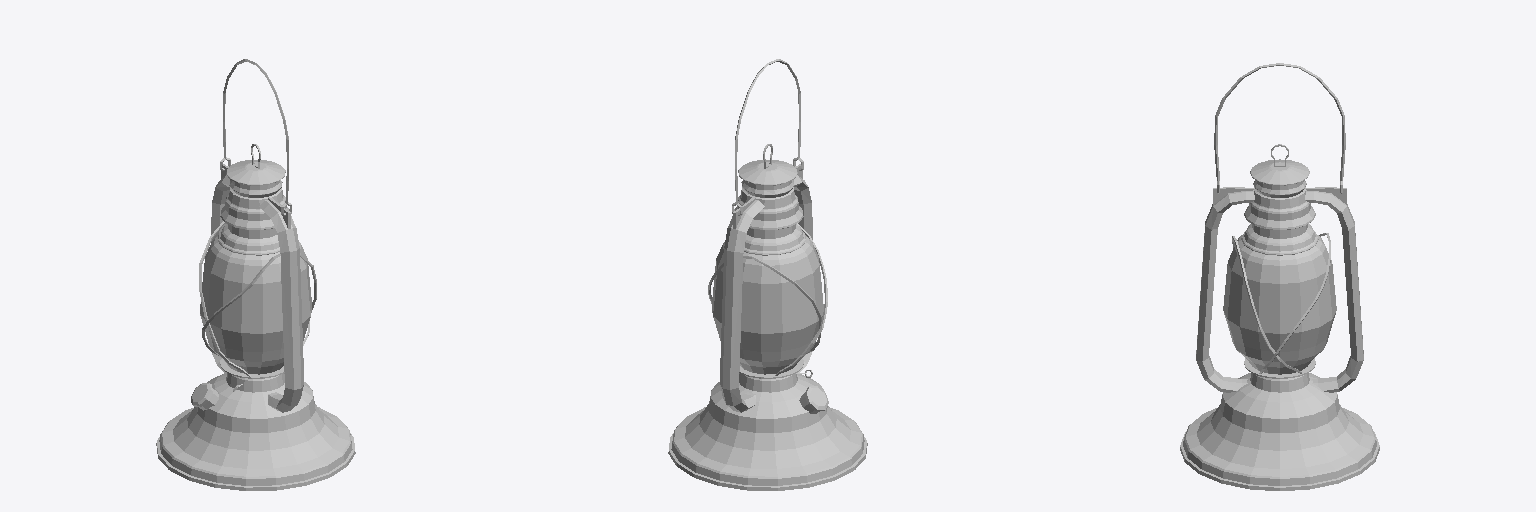
File: Lamp_01.obj
3 views of the same model, side by side, from view 1: azimuth 30°, elevation 25°; view 2: azimuth 150°, elevation 25°; view 3: azimuth 270°, elevation 25° (orthographic).
Visible parts, largest first — view 1: g Low_Poly_Lamp_Low_Poly_Lamp; view 2: g Low_Poly_Lamp_Low_Poly_Lamp; view 3: g Low_Poly_Lamp_Low_Poly_Lamp.
Part boxes in pixels (left/top/right/bottom): g Low_Poly_Lamp_Low_Poly_Lamp: left=156, top=59, right=355, bottom=490; g Low_Poly_Lamp_Low_Poly_Lamp: left=668, top=59, right=867, bottom=490; g Low_Poly_Lamp_Low_Poly_Lamp: left=1180, top=63, right=1379, bottom=490.
Bounding box in the file's own units: 2.07 × 4.4 × 2.07.